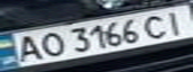1: (87, 21, 109, 50)
3: (66, 25, 90, 53)
6: (118, 16, 148, 45), (103, 19, 127, 47)
A: (9, 33, 45, 64)
C: (136, 11, 175, 39)
I: (157, 7, 193, 35)
O: (33, 29, 66, 58)
